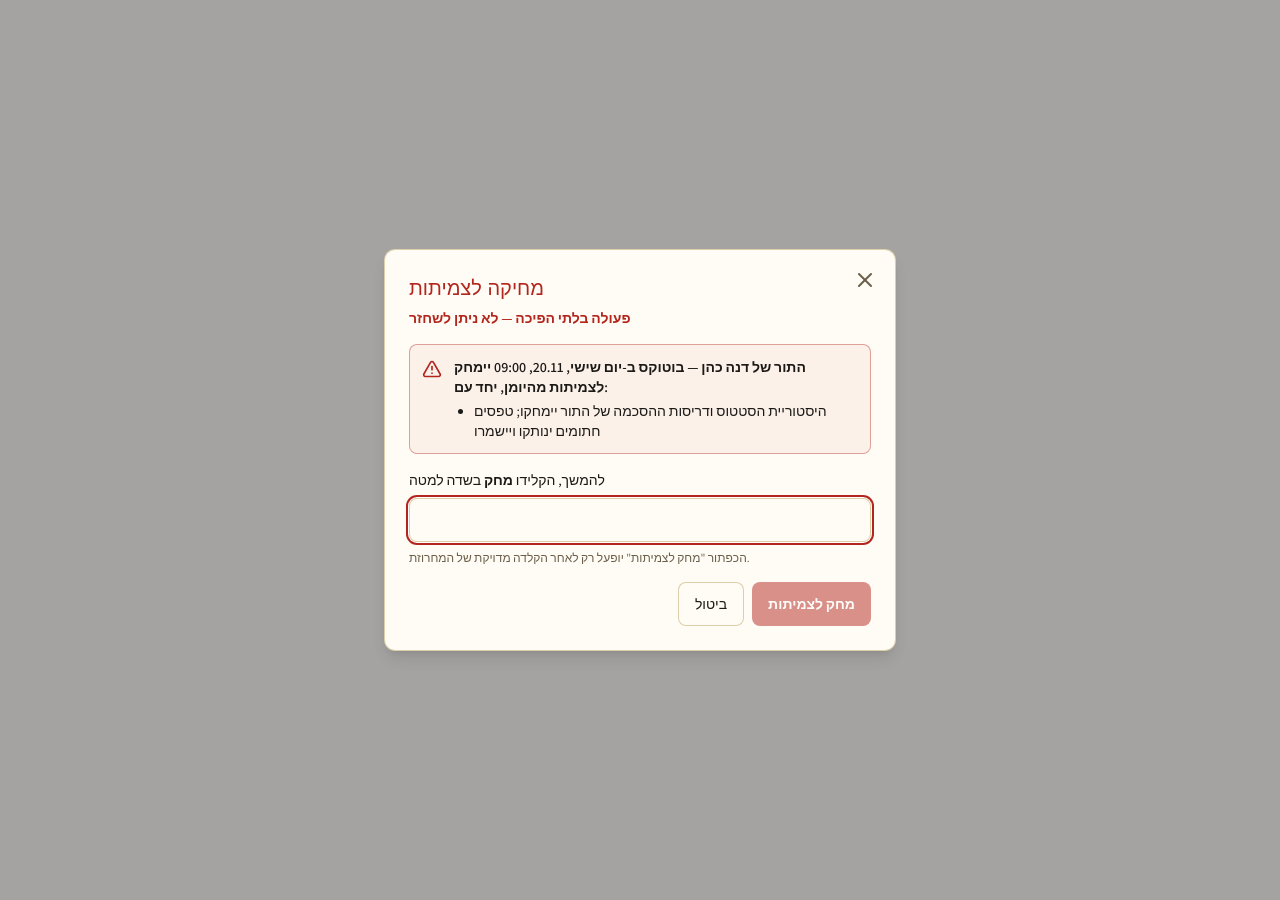
it: HardDeleteAppointmentDialog — אישור בהקלדת 'מחק' › כפתור "מחק לצמיתות" מנוטרל עד הקלדת מילת האישור
Expected: the button "מחק לצמיתות" is disabled, [752,582,871,626]
Type "מח" into the field at (640, 520), box [409,498,871,542]
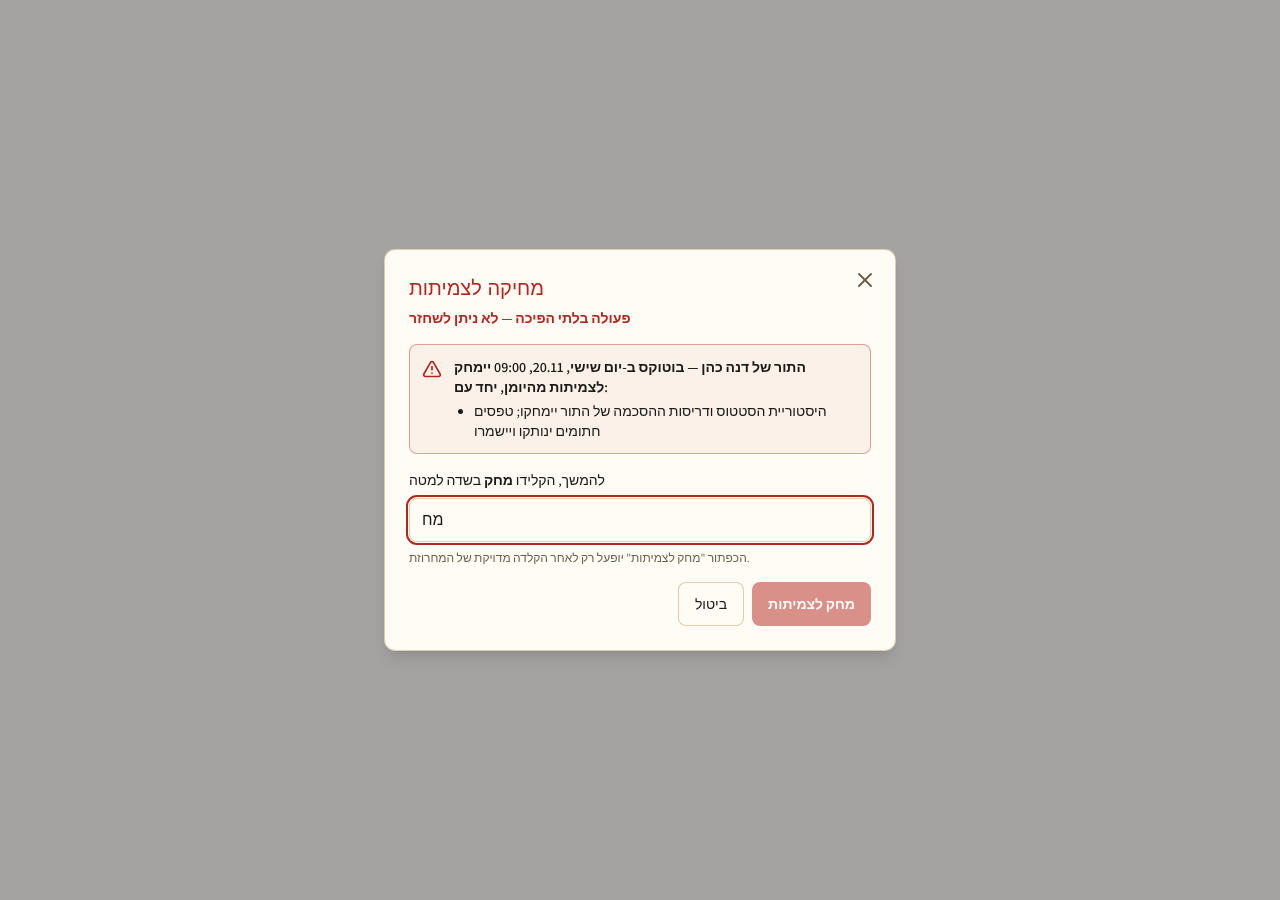
Expected: the button "מחק לצמיתות" is disabled, [752,582,871,626]
Replace the text in the field with "מחק" at (640, 520), box [409,498,871,542]
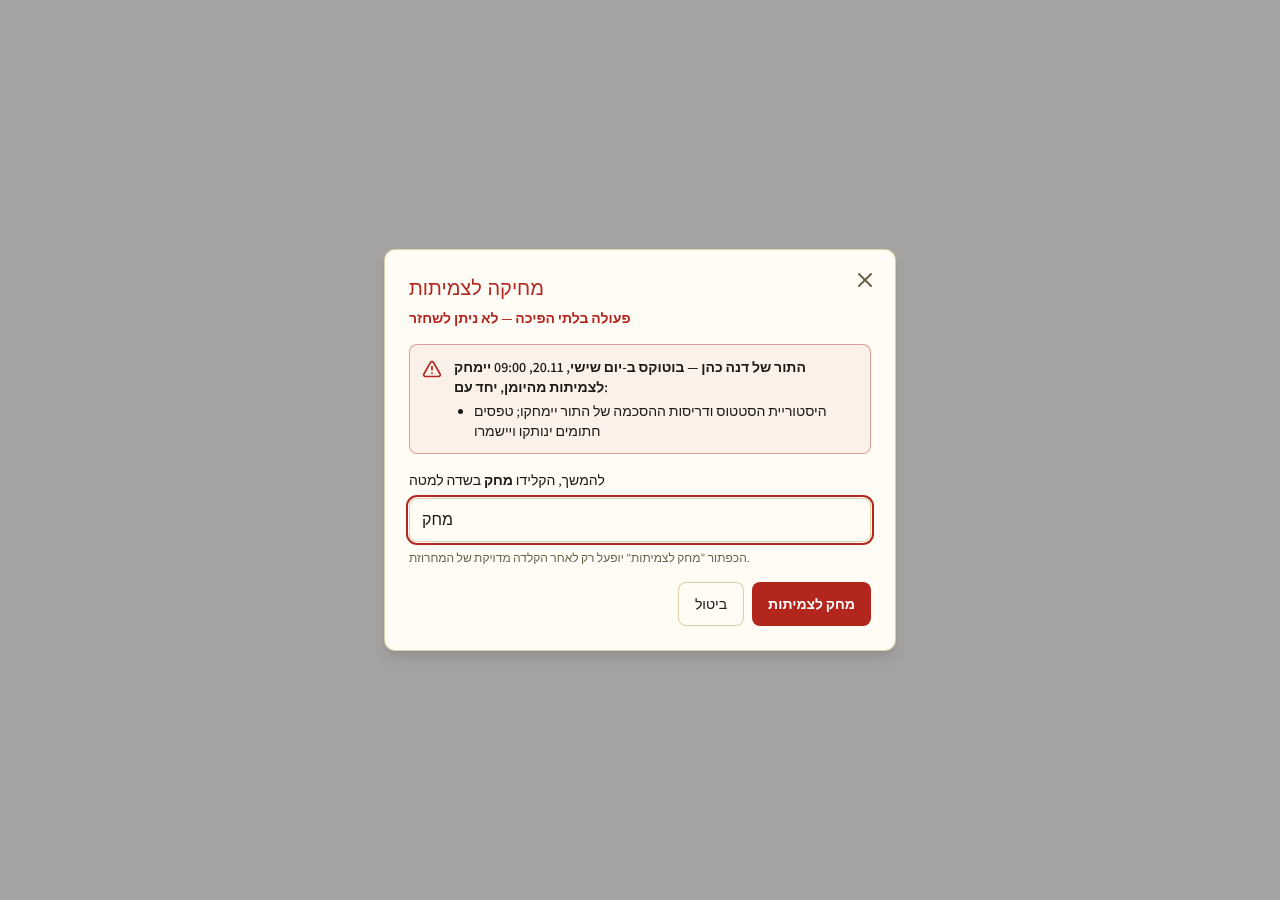
Result: the button "מחק לצמיתות" is enabled at [752,582,871,626]
